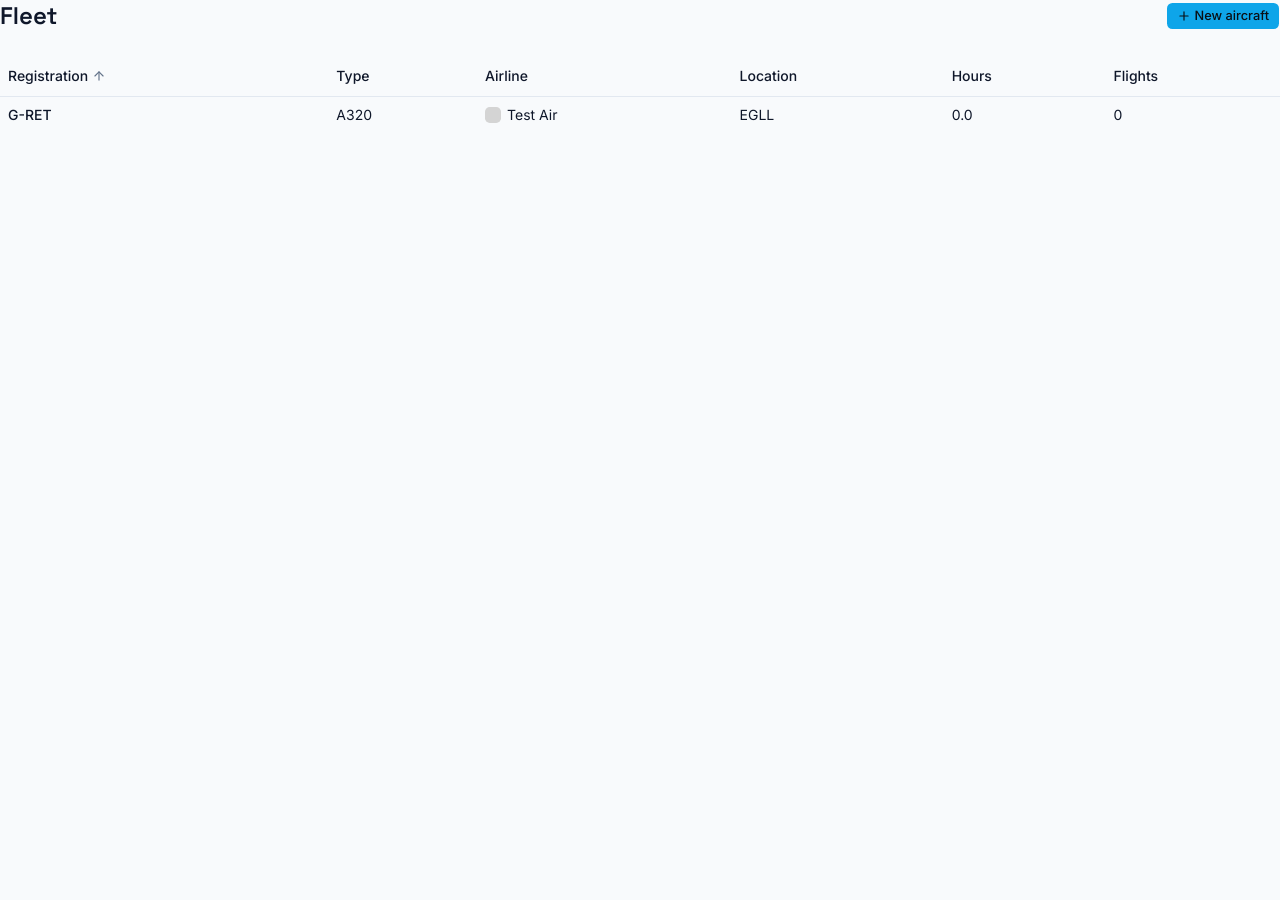
Scenario: FleetView › plain Retire (docs/plans/fleet-retire.md) › retires an aircraft after confirming, saying its history is kept
Click the text "G-RET" at (30, 114), box [0,96,328,132]
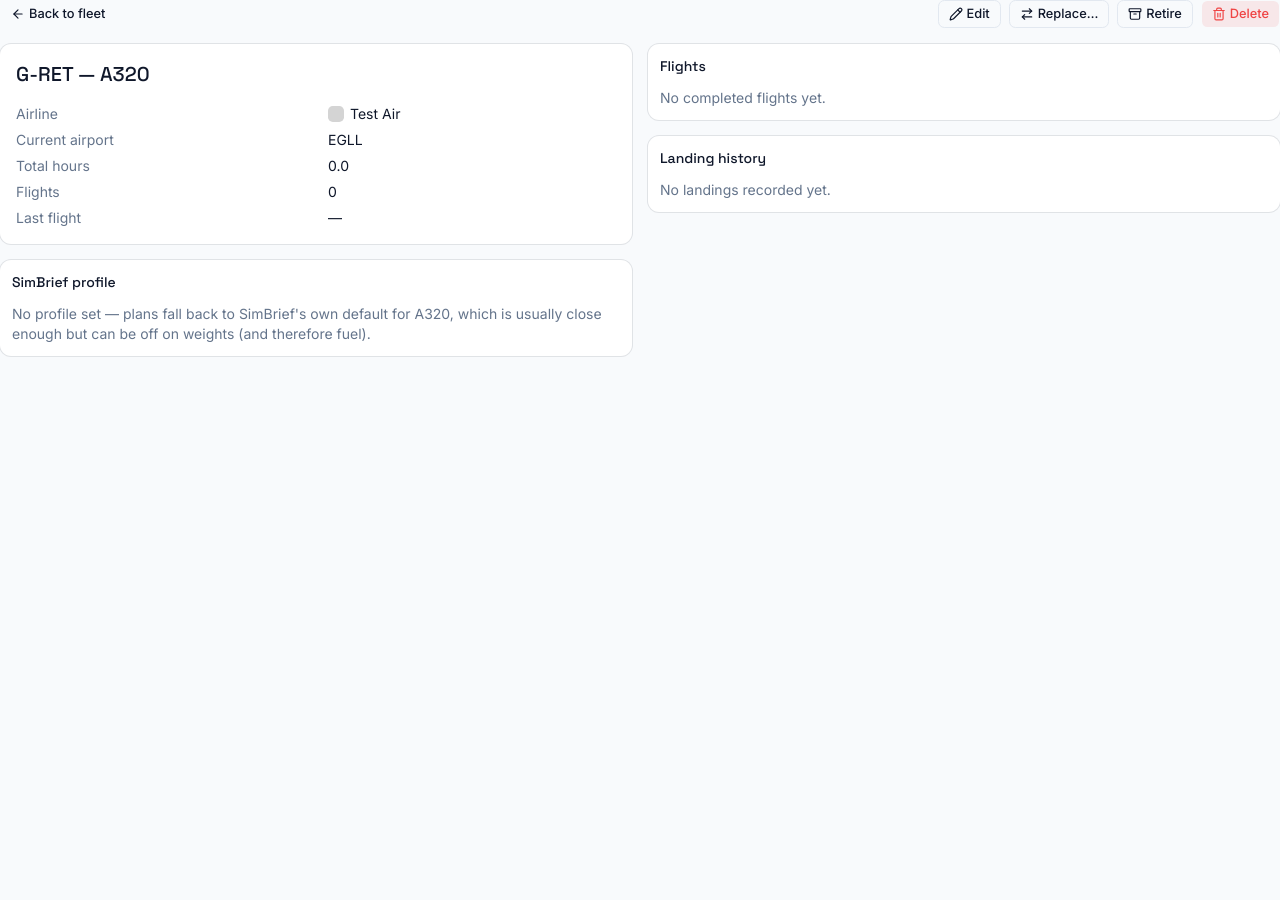
Click the button "Retire" at (1155, 14), box [1117,0,1193,28]
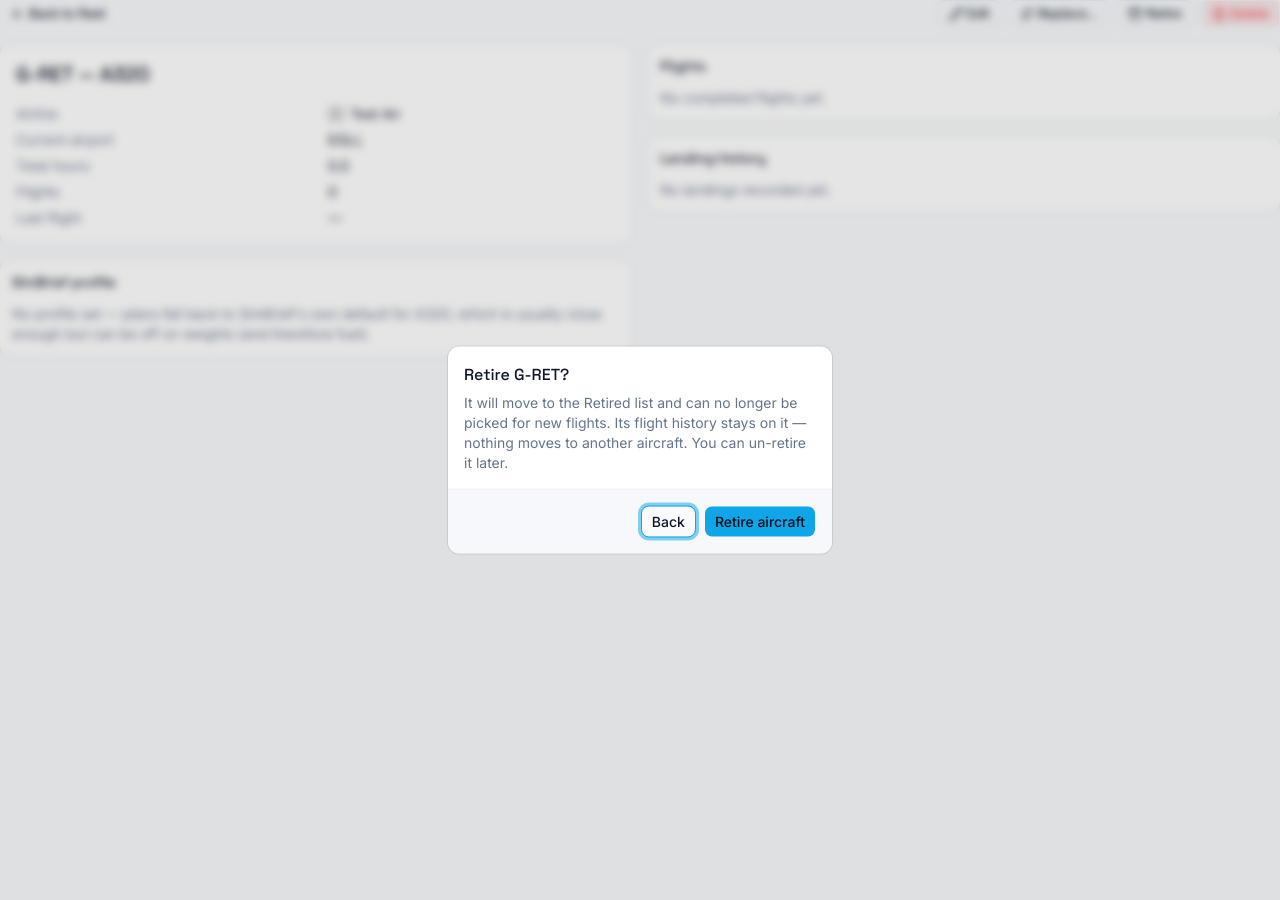
Check: the heading "Retire G-RET?" is shown, box [464,362,569,386]
Check: the text "flight history stays on it" is shown, box [464,394,806,470]
Click the button "Retire aircraft" at (760, 522), box [704,506,816,538]
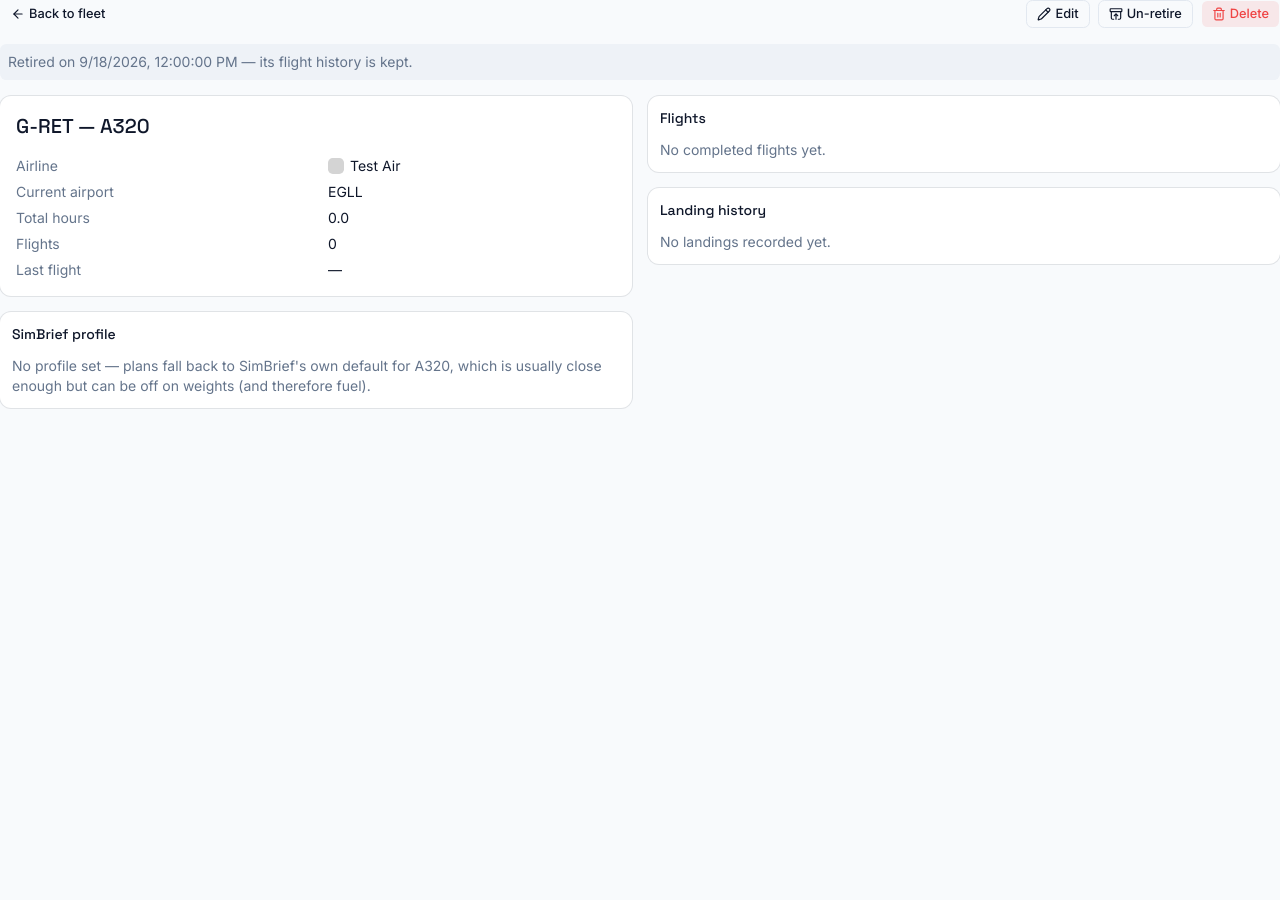
Check: the button "Un-retire" is shown, box [1098,0,1193,28]
Check: the button "Replace" is gone
